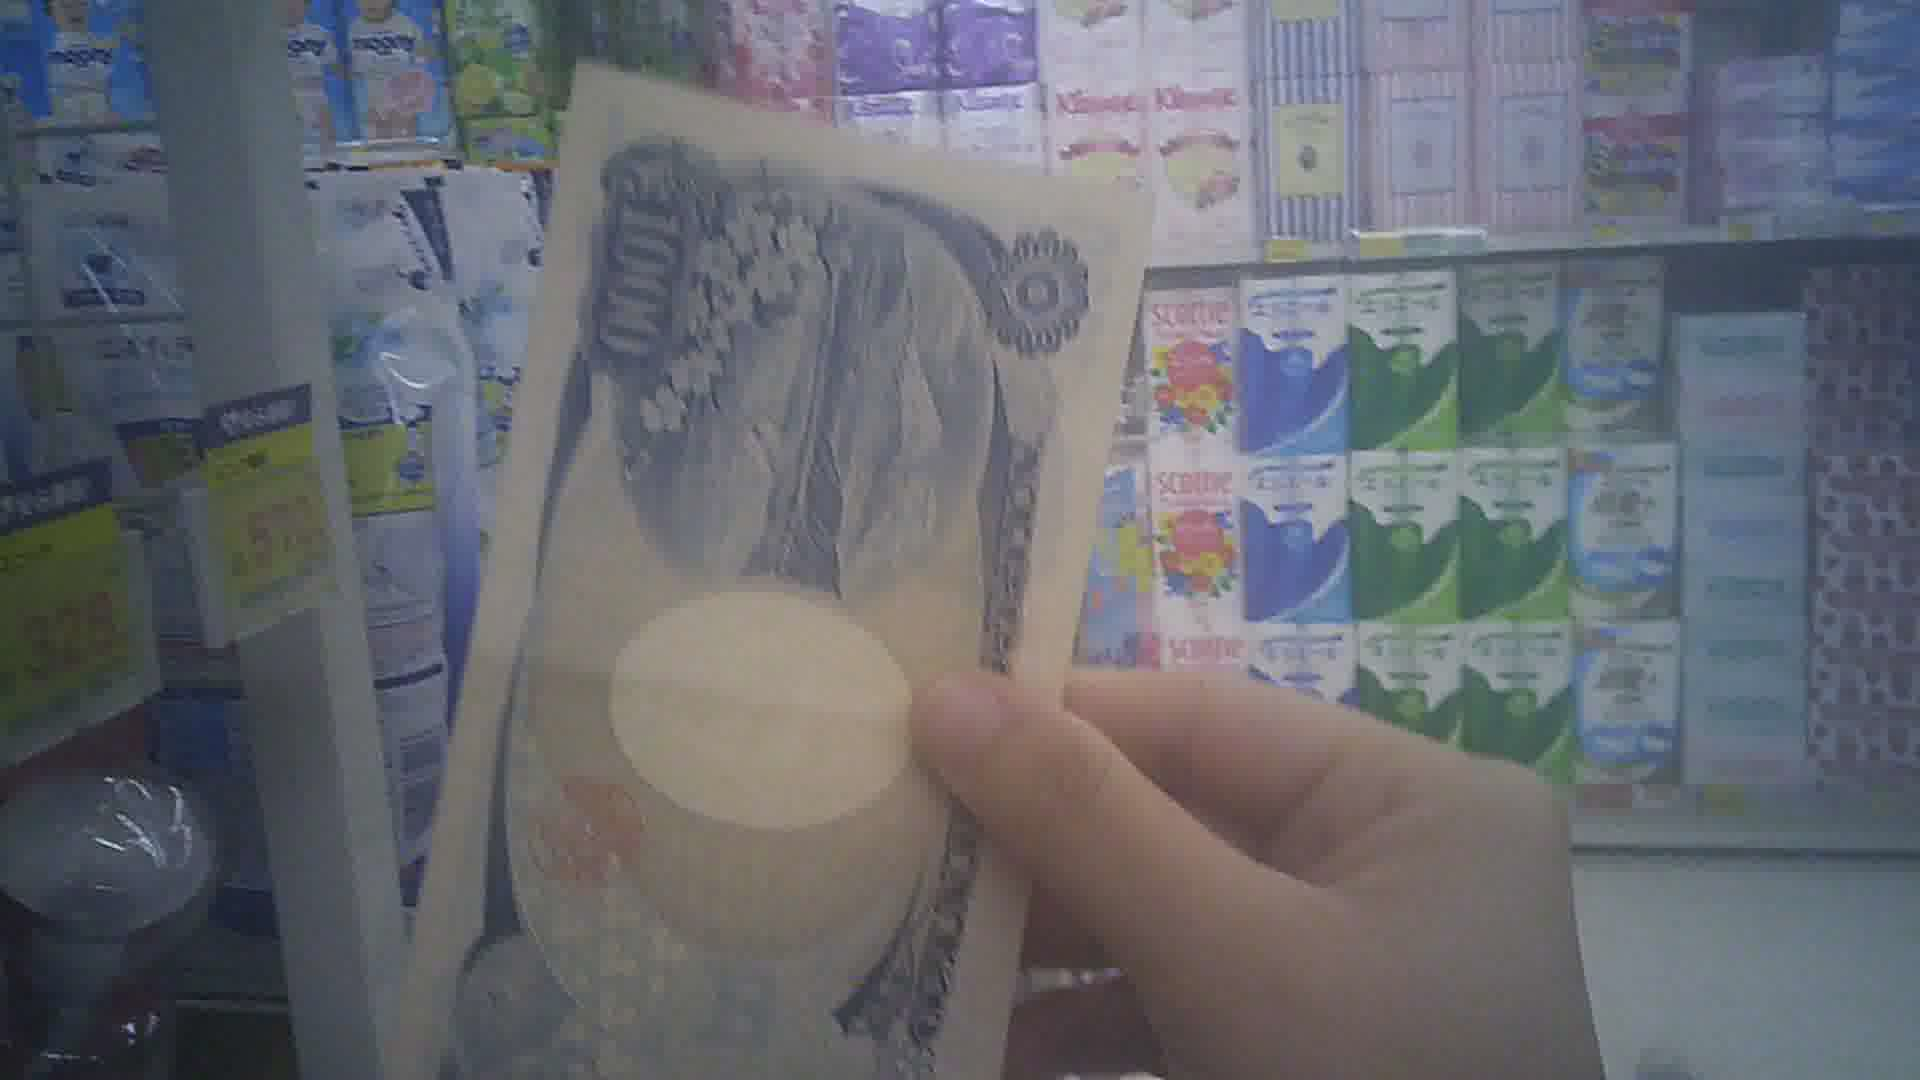1,000 Yen: (388, 44, 1153, 1079)
